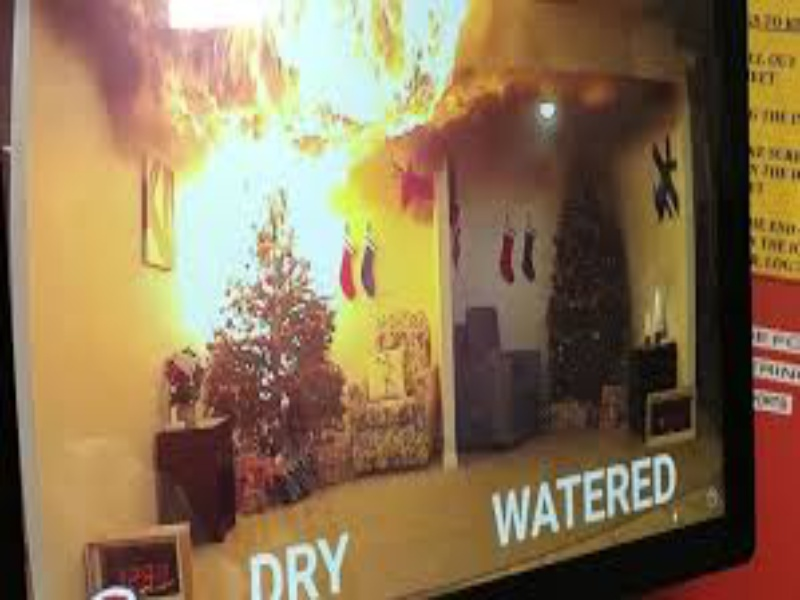fire: (180, 110, 354, 294)
